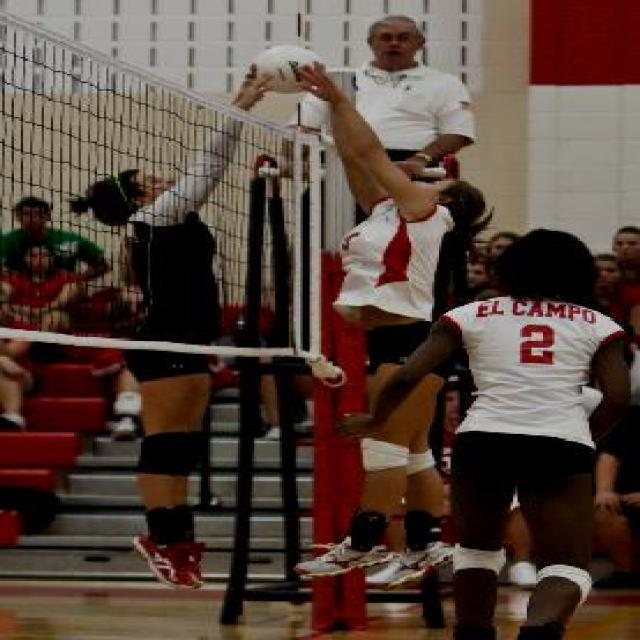volleyball: (250, 46, 324, 92)
